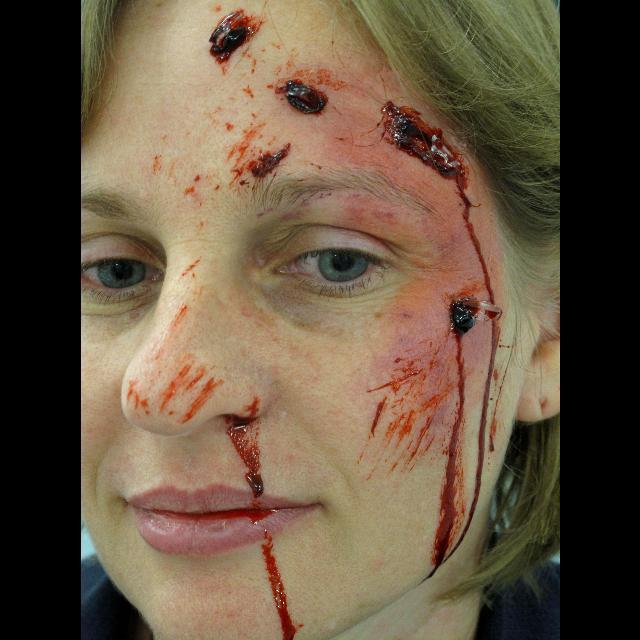blood: (359, 337, 495, 572), (381, 101, 493, 295), (120, 319, 223, 435), (203, 106, 283, 156), (151, 155, 248, 194), (261, 532, 296, 640), (224, 415, 263, 498), (208, 9, 255, 61), (451, 297, 503, 335), (278, 80, 327, 113), (249, 142, 289, 177)
